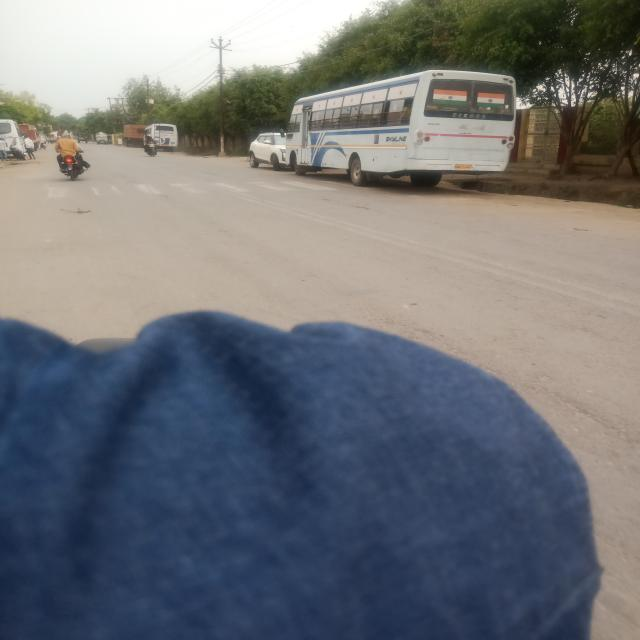Bus: (285, 70, 515, 186), (145, 124, 178, 150)
Car: (248, 132, 287, 171)
Two Wheeler: (62, 156, 83, 181), (147, 140, 157, 156)
